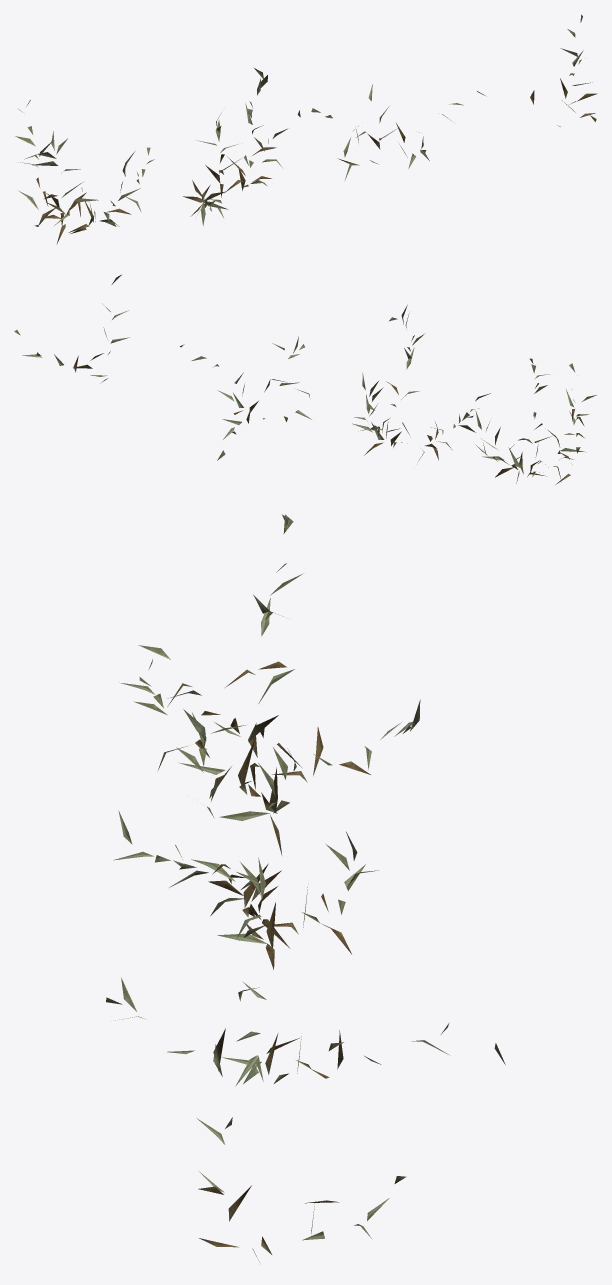
Rendered from shrub-02.glb.
The picture shows the model from 3 angles, top to bottom: view 1: azimuth 30°, elevation 25°; view 2: azimuth 150°, elevation 25°; view 3: azimuth 270°, elevation 25°; orthographic projection. The views are drawn at different scales.
Parts seen in each view (by area): view 1: shrub_02_a; view 2: shrub_02_a; view 3: shrub_02_a.
Part boxes in pixels (left/top/right/bottom): shrub_02_a: left=15, top=14, right=597, bottom=244; shrub_02_a: left=14, top=274, right=596, bottom=484; shrub_02_a: left=106, top=514, right=505, bottom=1262.
Bounding box in the file's own units: 5.92 × 1.47 × 1.88.
1 material, 1 textured.
